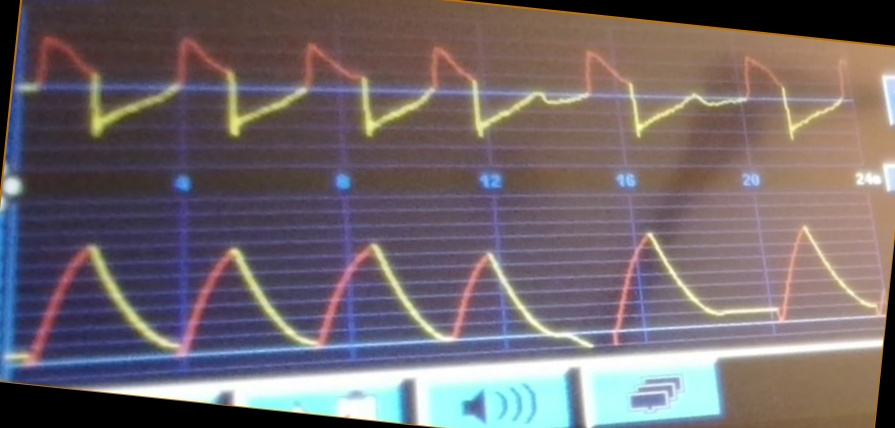Ineffective_effort Flow: (25, 30, 847, 161)
Ineffective_effort Volume: (15, 217, 881, 369)
